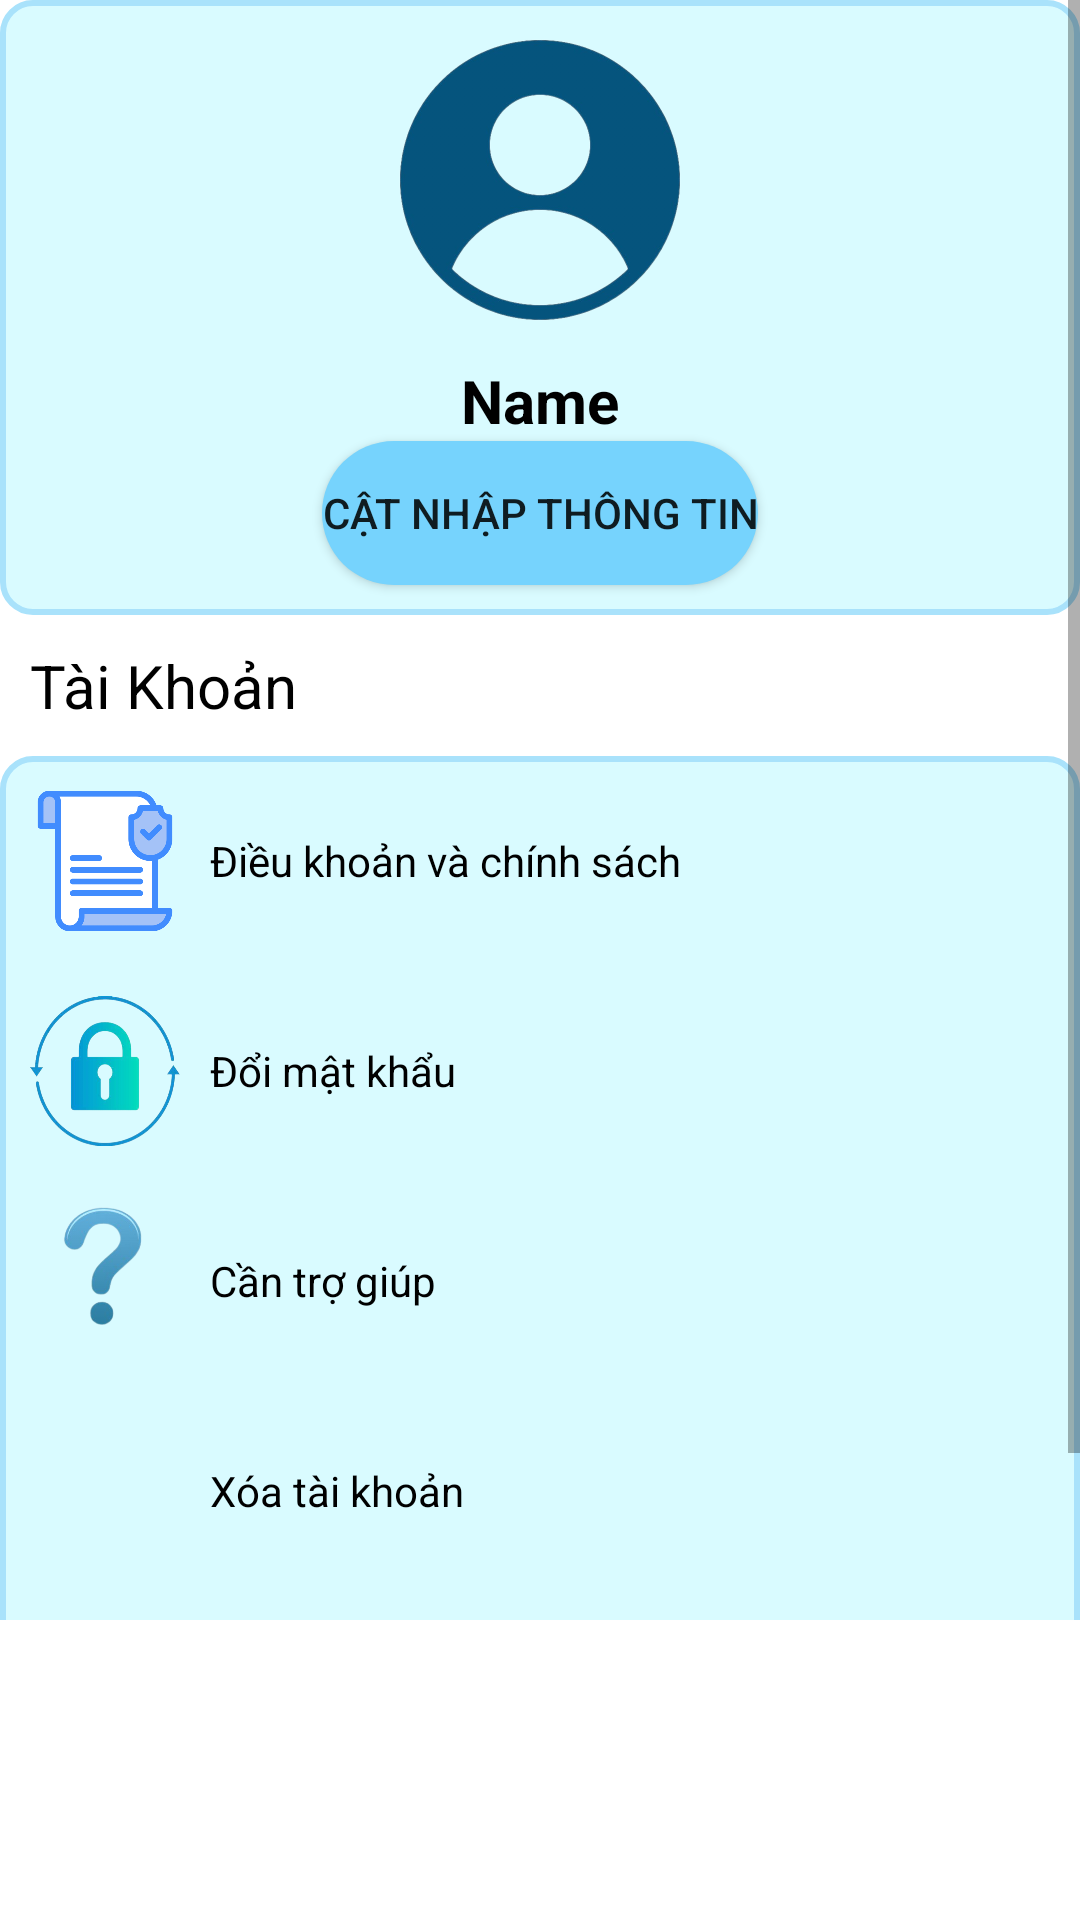

Named icons in this screenshot (1080 × 1920) and their centers, (x,y):
iconquestion: (102,1266)
iconrepassword: (105,1071)
iconrules: (105,861)
iconu: (540,180)
